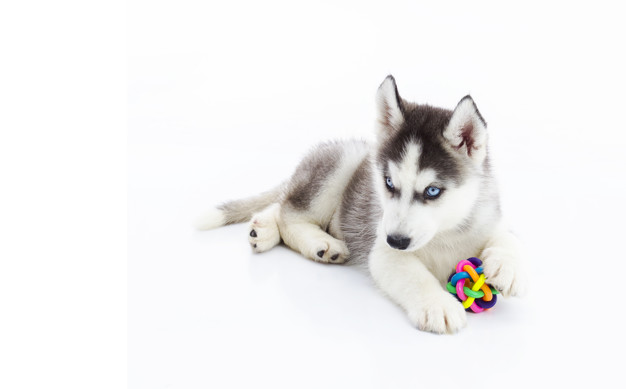husky: (337, 55, 514, 272)
